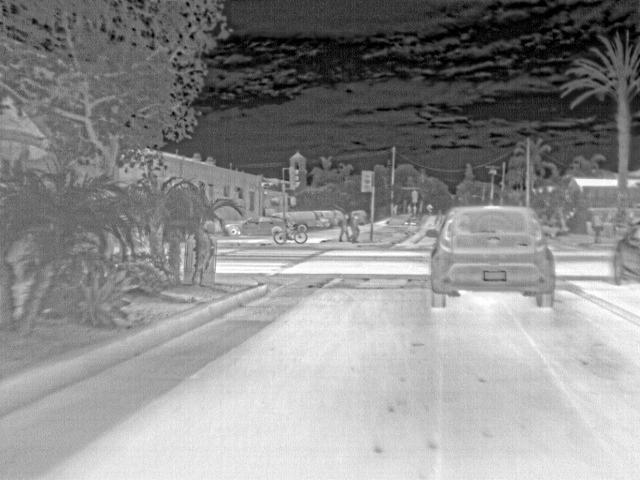car: (429, 204, 555, 308), (612, 220, 640, 286), (223, 216, 285, 237), (287, 209, 319, 231), (323, 208, 341, 228), (314, 210, 327, 228), (353, 210, 366, 217)
person: (337, 213, 350, 242), (350, 218, 362, 244), (392, 204, 400, 216), (406, 202, 412, 214)
